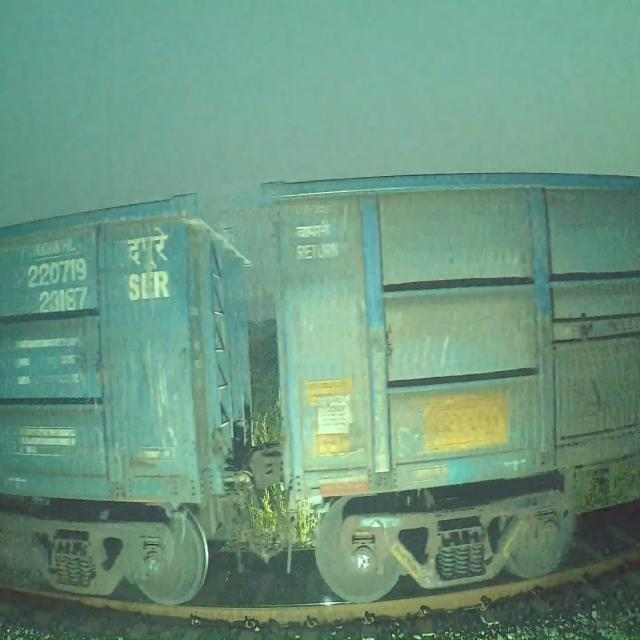WAgon-uic: (254, 162, 640, 607), (0, 182, 256, 610)
uic: (25, 254, 94, 317)
